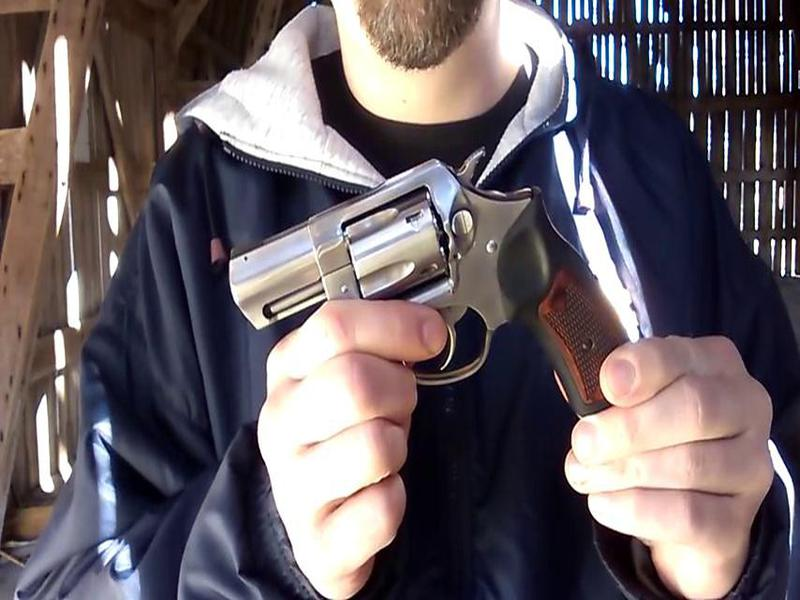Revolver: (208, 161, 620, 437)
